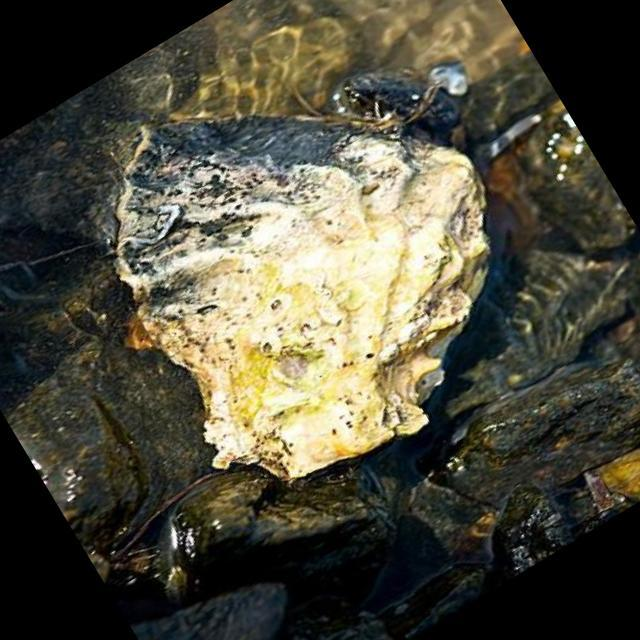Oyster- Indeterminate: (36, 0, 582, 534)
